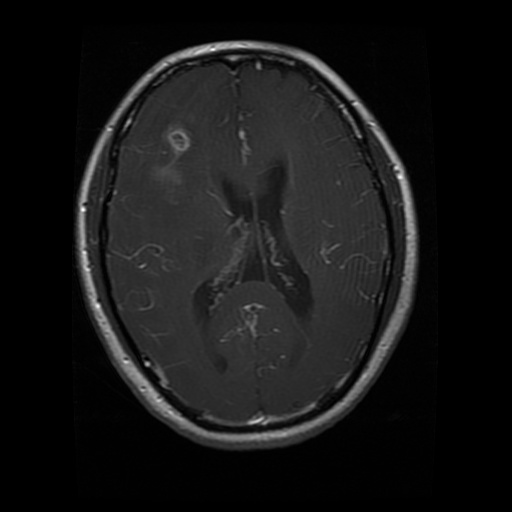glioma: (117, 112, 216, 217)
